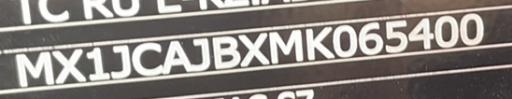letter: (13, 49, 55, 88), (50, 47, 88, 84), (268, 27, 304, 64), (236, 31, 270, 68), (304, 24, 336, 61), (130, 41, 164, 74), (209, 34, 241, 69), (161, 39, 193, 74), (83, 44, 111, 81), (433, 13, 461, 48), (407, 15, 435, 50), (331, 23, 359, 58), (384, 18, 410, 53), (358, 20, 384, 55), (458, 12, 484, 46), (108, 42, 132, 77), (190, 35, 210, 72)
